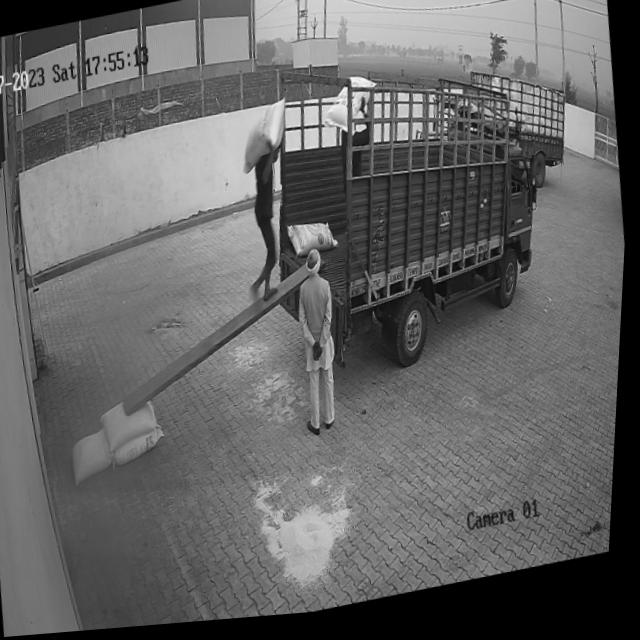sack: (238, 103, 295, 178), (101, 397, 163, 457), (72, 428, 120, 486), (288, 221, 342, 264), (115, 429, 170, 470)
